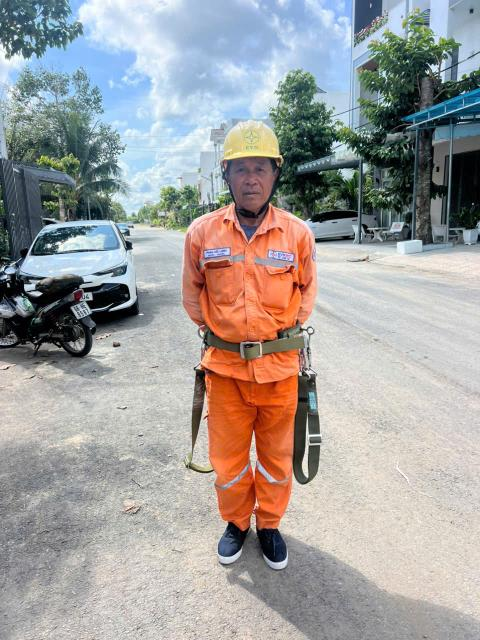harness: (188, 316, 328, 367)
helmet: (215, 111, 292, 167)
shoes: (252, 518, 298, 577), (209, 511, 250, 565)
